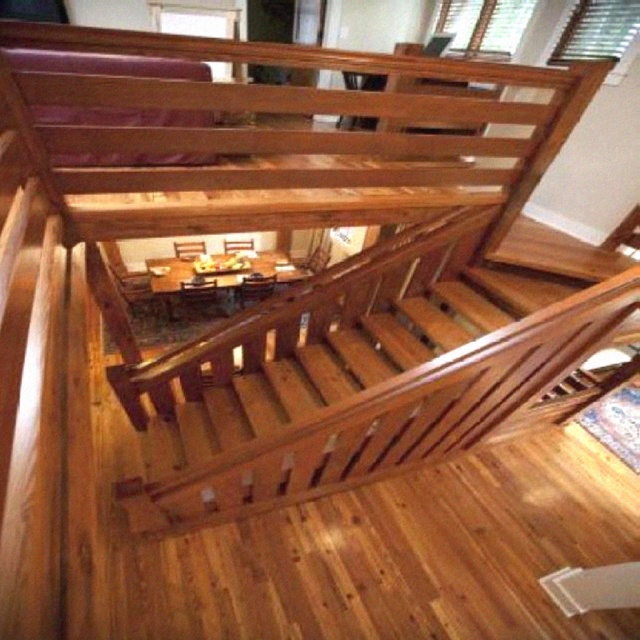stair: (137, 249, 640, 540)
